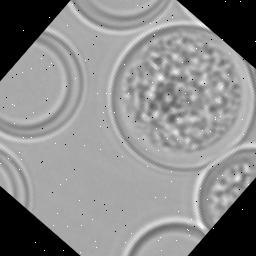picoshell: (107, 20, 255, 168), (0, 30, 83, 141), (192, 141, 256, 229), (67, 0, 173, 34), (120, 216, 205, 256), (0, 141, 31, 209)
